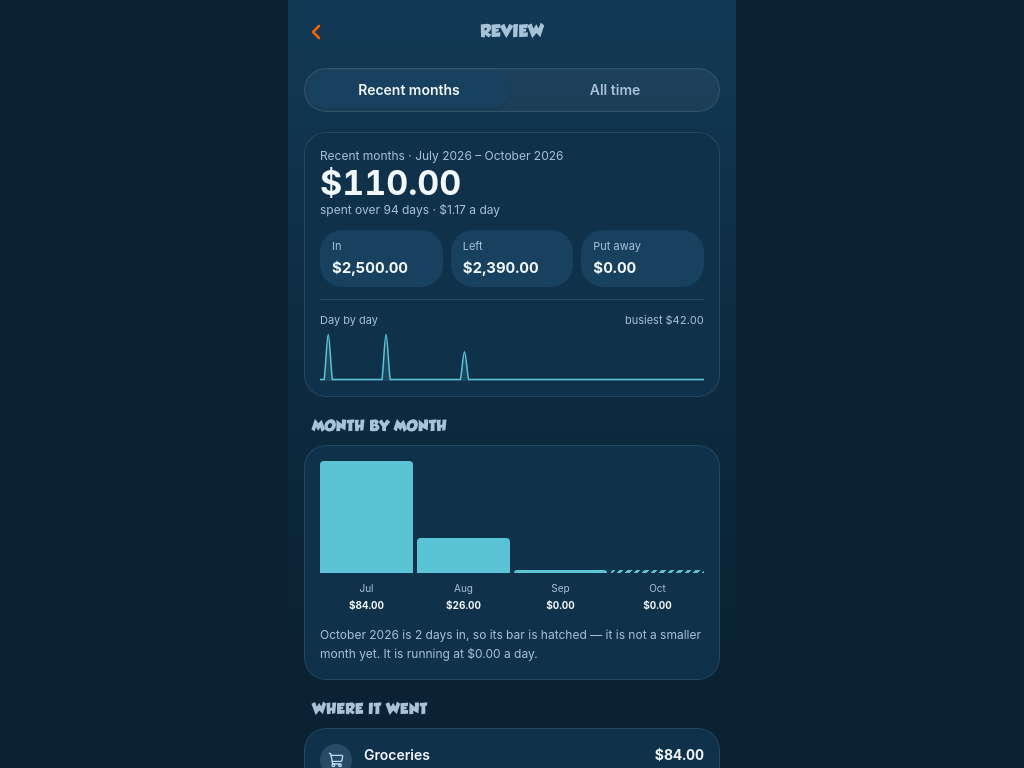
it: Review — the two windows › switches the charts to the other window without reading again
Expected: the heading "Where it went" is shown, [312,702,427,716]
Click the tab "All time" at (615, 90), box [514,72,716,108]
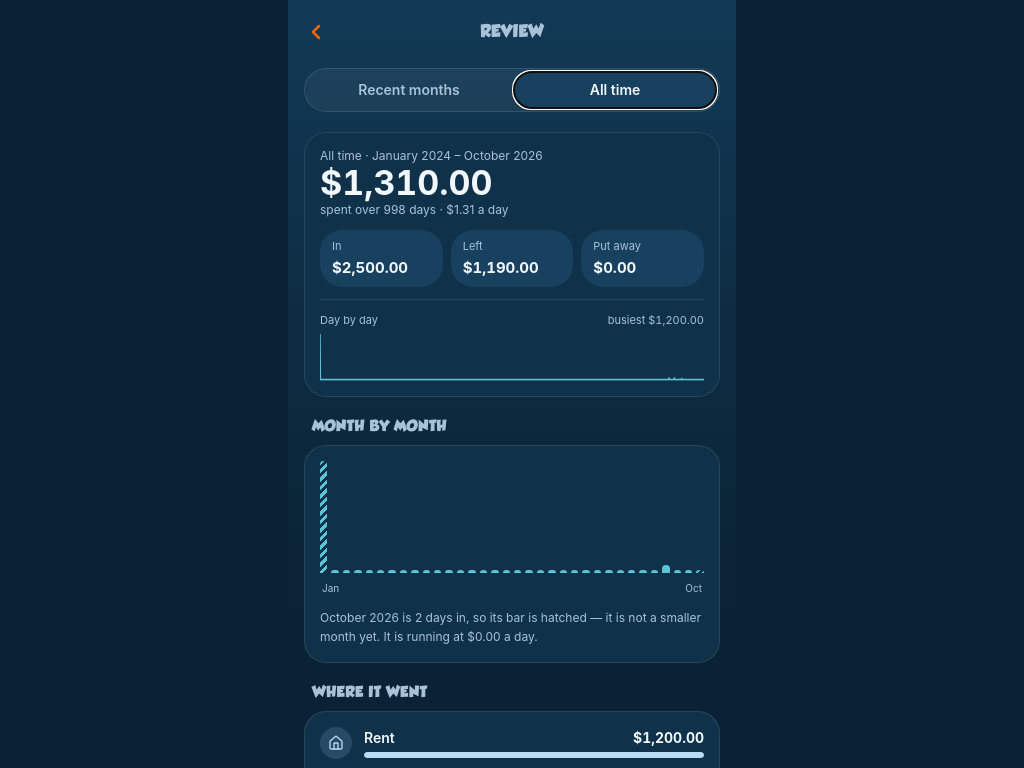
Now the text "Rent" is shown, box [364,728,395,748]
